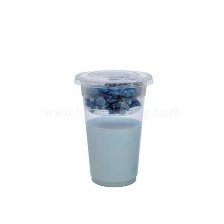glass: (67, 65, 159, 191)
